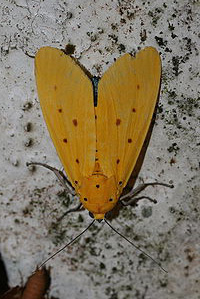Agape chloropyga: (23, 44, 175, 276)
moth: (21, 42, 173, 274)
